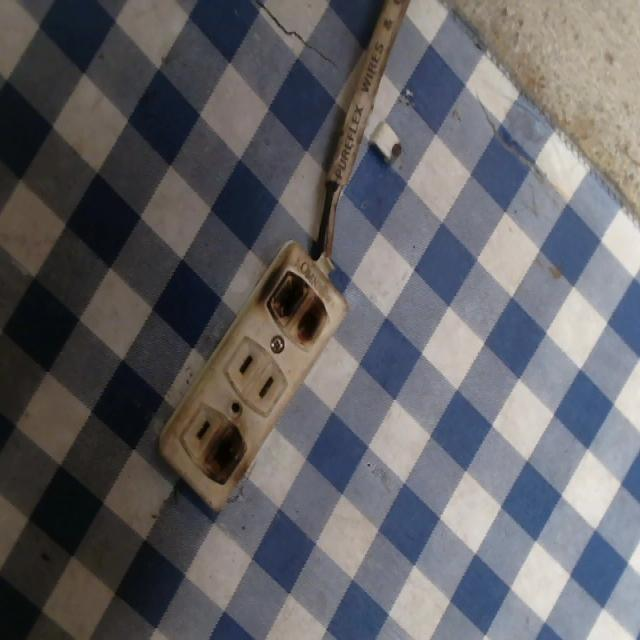-: (257, 248, 331, 349), (200, 421, 249, 488)
